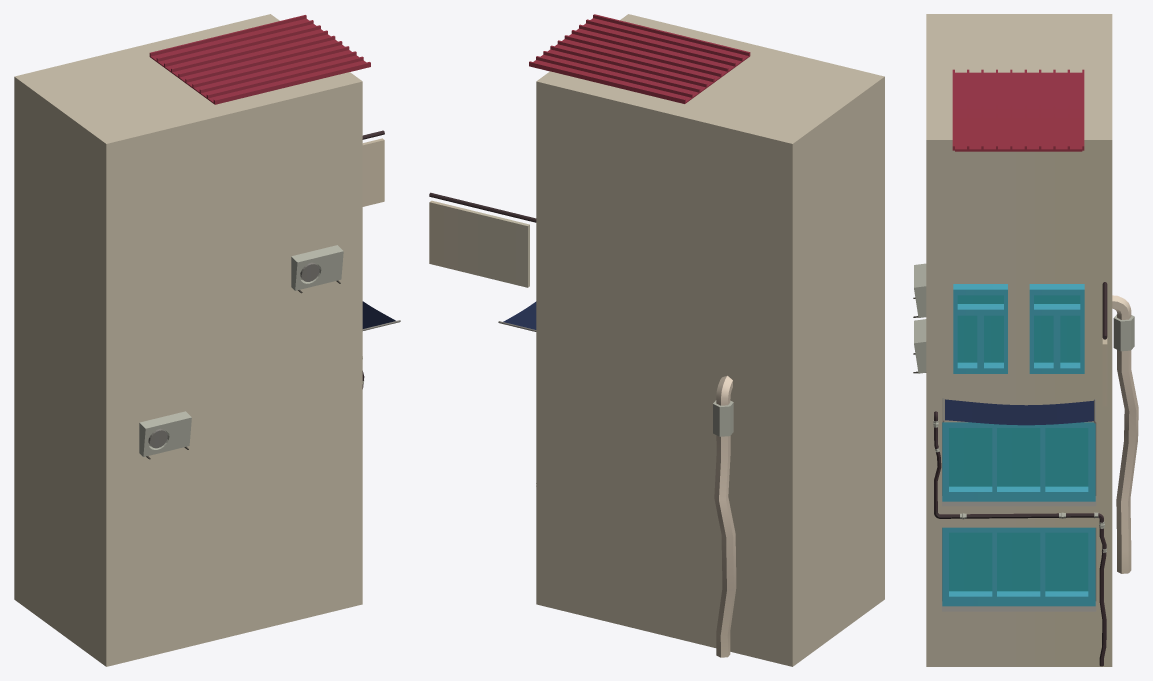
Rendered from Building_08.fbx.
3 renders of one model, left to right at view 1: azimuth 30°, elevation 25°; view 2: azimuth 150°, elevation 25°; view 3: azimuth 270°, elevation 25°, orthographic.
Visible parts, largest first — view 1: building; view 2: building; view 3: building.
Boxes of the visible parts, bbox=[...] form: building: bbox=[14, 14, 400, 666]; building: bbox=[429, 14, 884, 666]; building: bbox=[913, 14, 1138, 666].
Bounding box in the file's own units: 1485 × 2043 × 786.
